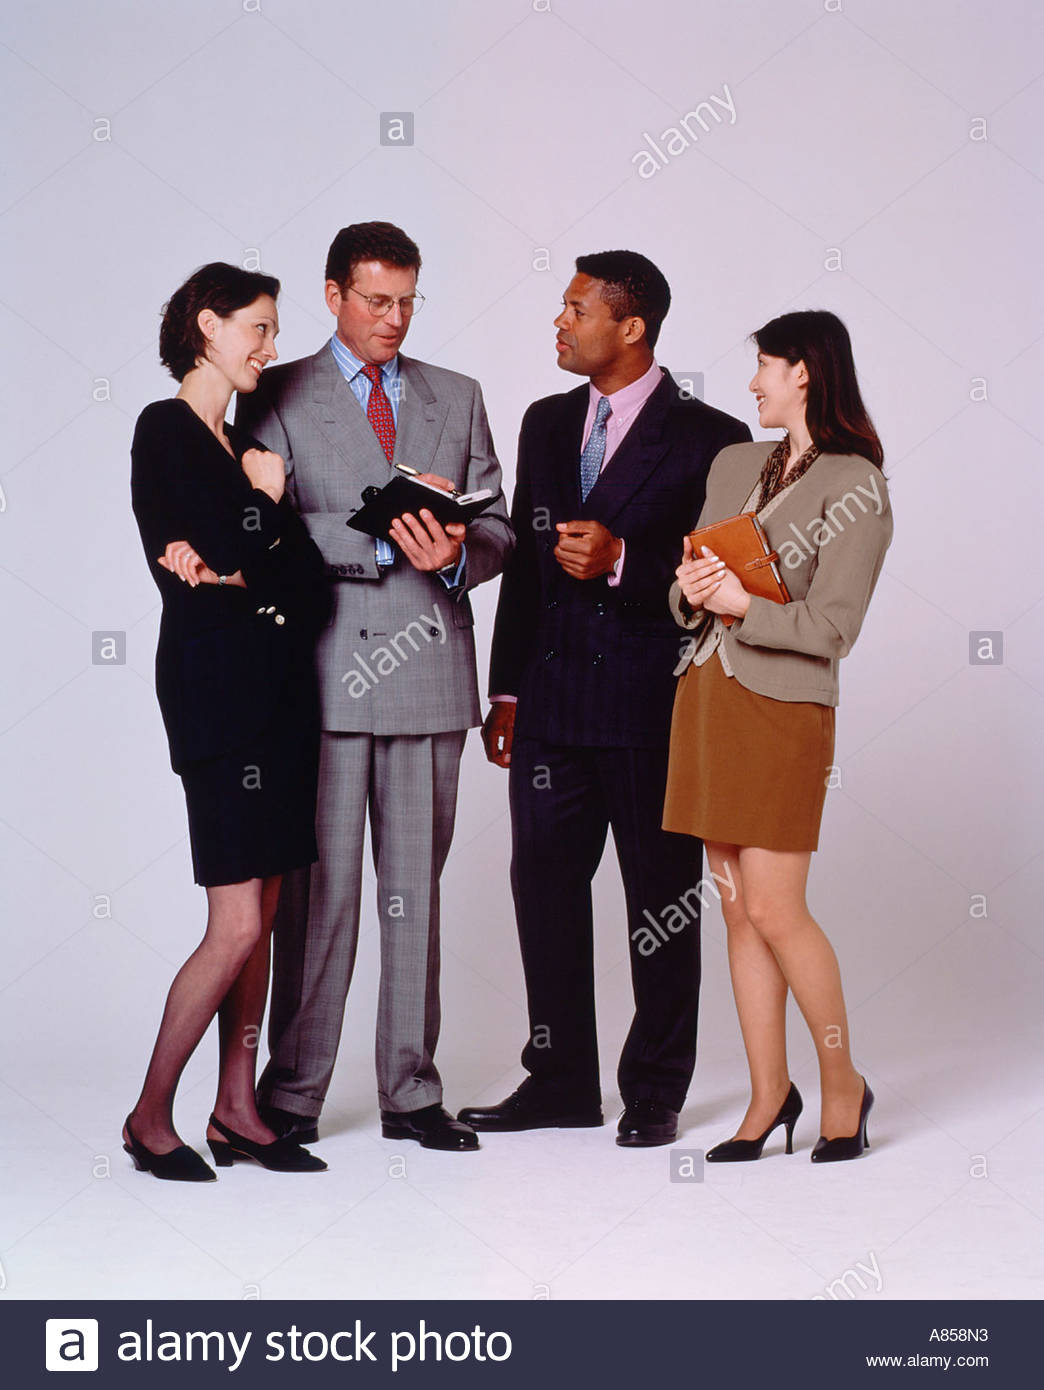person: (263, 185, 512, 840), (89, 250, 338, 799), (504, 219, 736, 803), (704, 281, 908, 897)
